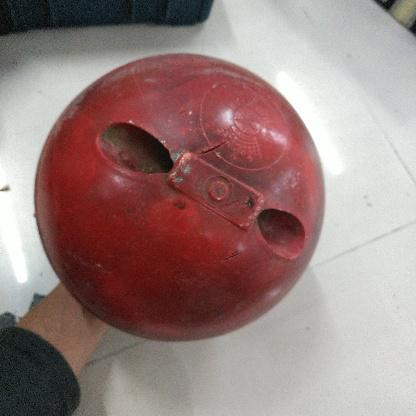red_buoy: (31, 50, 328, 346)
